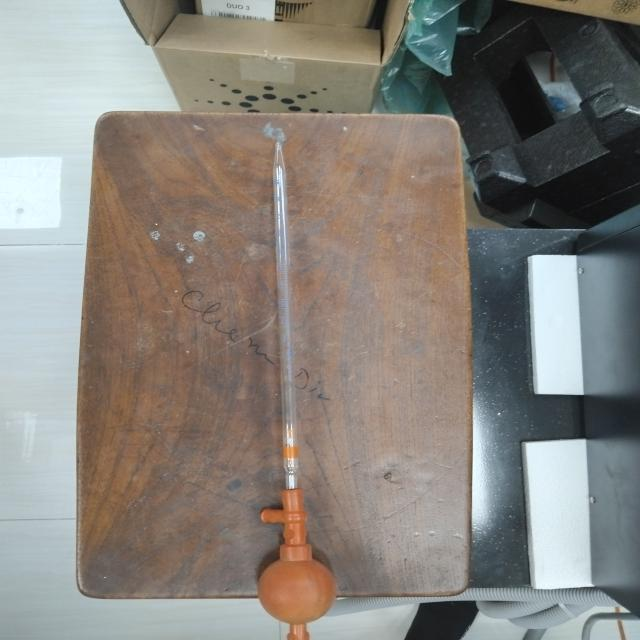Volumetric_Pipet: (219, 99, 350, 640)
